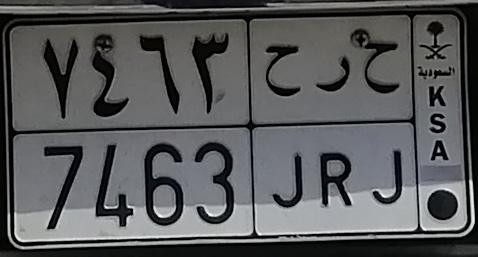3: (191, 30, 236, 226)
4: (90, 38, 135, 228)
6: (138, 32, 185, 227)
7: (40, 37, 85, 232)
J: (264, 43, 305, 210), (363, 42, 404, 204)
R: (316, 56, 354, 208)
